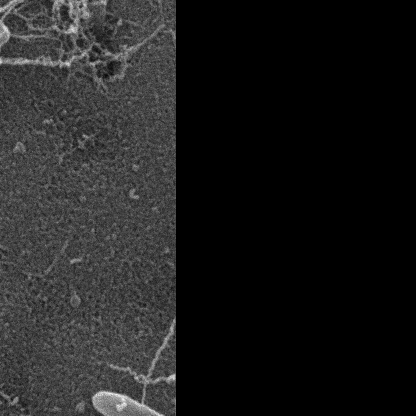cell2surface: (143, 323, 174, 406), (0, 57, 75, 71), (0, 0, 55, 16)
regular: (93, 390, 176, 416), (0, 0, 7, 46)
